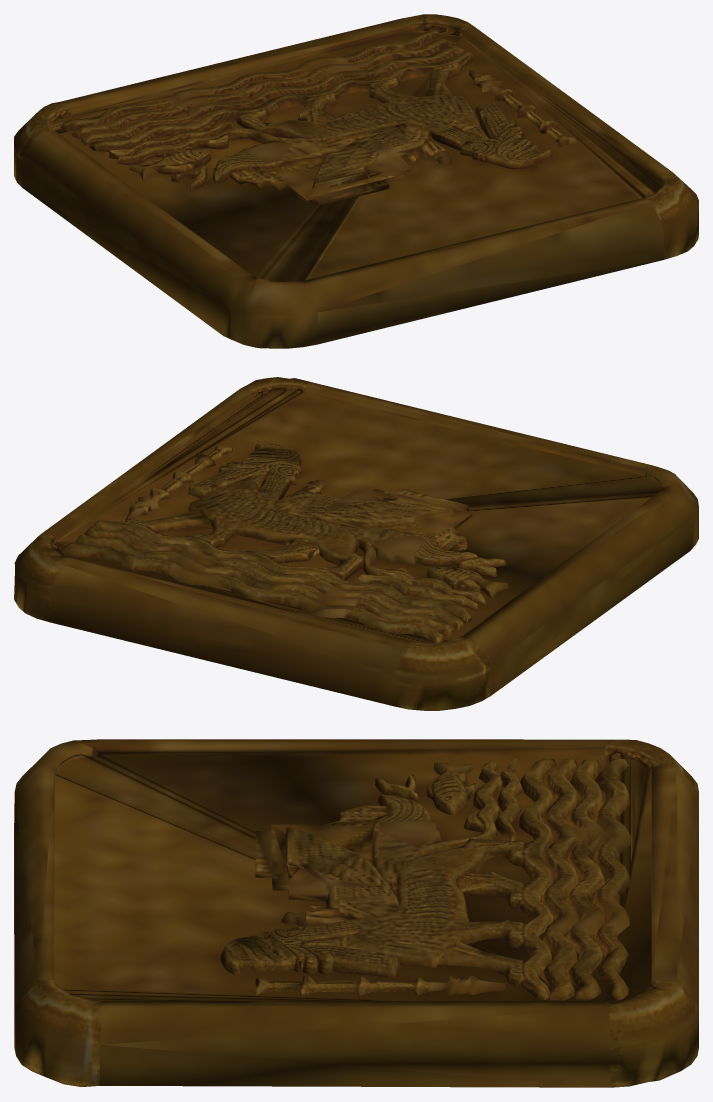
The model's file is tabuleta_sagrada_3d.obj.
The picture shows the model from 3 angles, top to bottom: view 1: azimuth 30°, elevation 25°; view 2: azimuth 150°, elevation 25°; view 3: azimuth 270°, elevation 25°; orthographic projection. The views are drawn at different scales.
Visible parts, largest first — view 1: Mesh_0; view 2: Mesh_0; view 3: Mesh_0.
Part boxes in pixels (x1,y1,x2,y2): Mesh_0: (14,14,698,348); Mesh_0: (14,377,698,710); Mesh_0: (14,739,698,1087).
Size of the model in its own units: 1.92 by 0.2289 by 1.91.
1 material, 1 textured.
